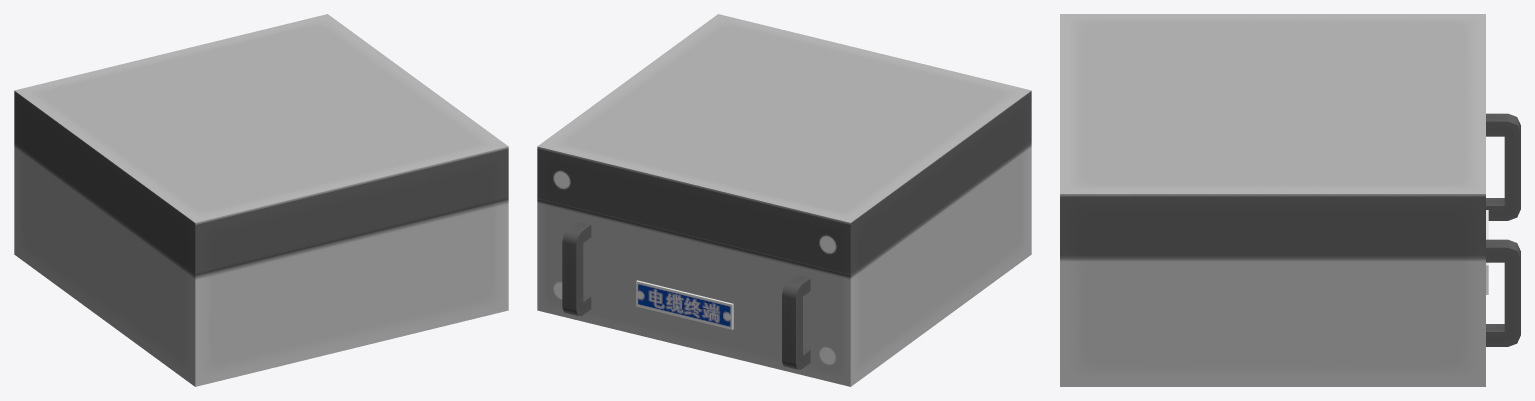
Rendered from Pfb_ElectricControlBox__3.fbx.
The picture shows the model from 3 angles, left to right: view 1: azimuth 30°, elevation 25°; view 2: azimuth 150°, elevation 25°; view 3: azimuth 270°, elevation 25°; orthographic projection. The views are drawn at different scales.
Parts seen in each view (by area): view 1: MAT_ElectricControlBox; view 2: MAT_ElectricControlBox; view 3: MAT_ElectricControlBox.
Part boxes in pixels (box(x1,y1,x2,y2)): MAT_ElectricControlBox: box(14, 14, 508, 386); MAT_ElectricControlBox: box(537, 14, 1031, 386); MAT_ElectricControlBox: box(1060, 14, 1520, 386).
Size of the model in its own units: 1 by 0.5 by 1.08.
Materials: 1 (1 with a texture image).
